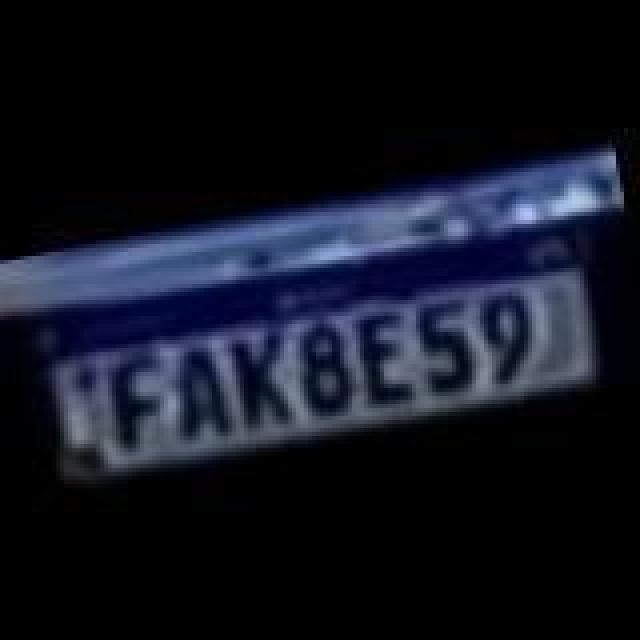5: (404, 288, 484, 400)
8: (290, 314, 366, 422)
9: (462, 280, 546, 392)
A: (162, 338, 238, 446)
E: (342, 298, 426, 414)
F: (98, 348, 174, 460)
K: (224, 328, 304, 440)
